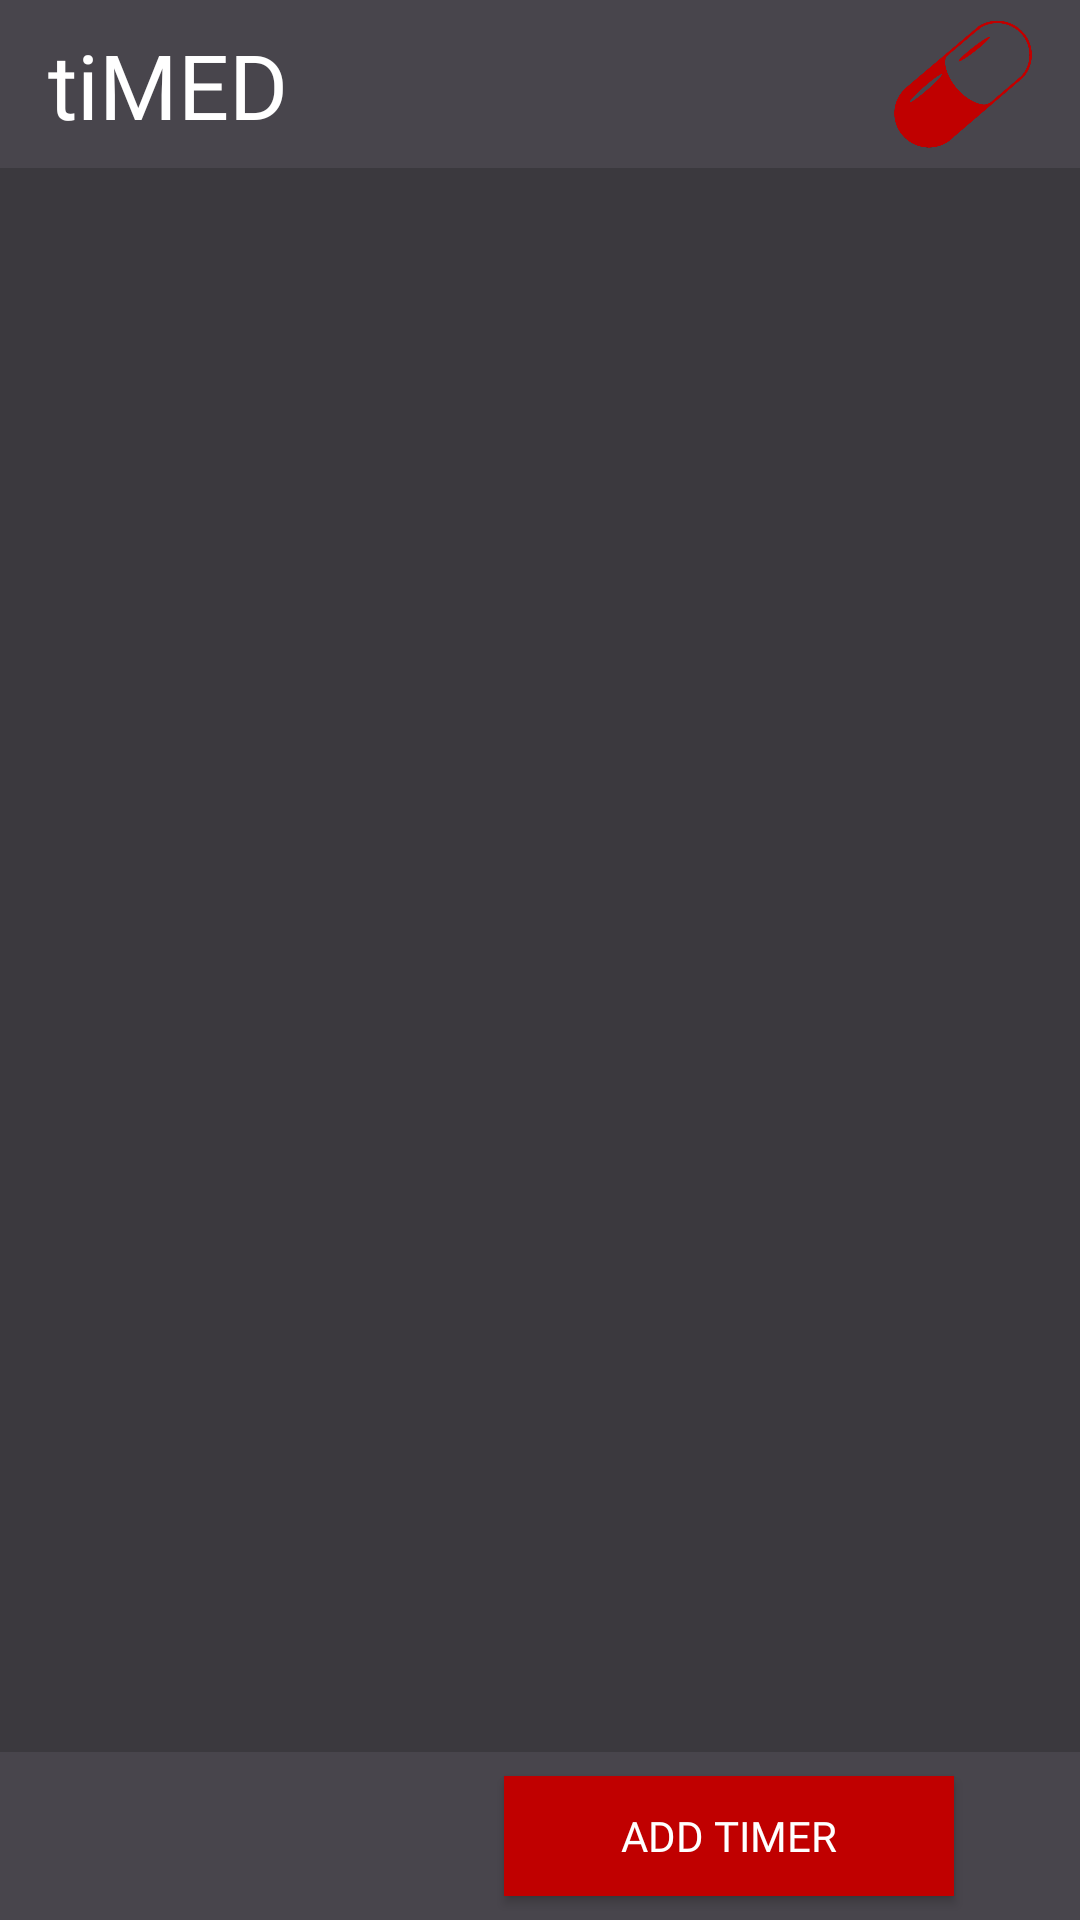

Screen size 1080w x 1920h. Icon name, then its center in pixels as point (x, y):
pill clipart: point (963, 84)
